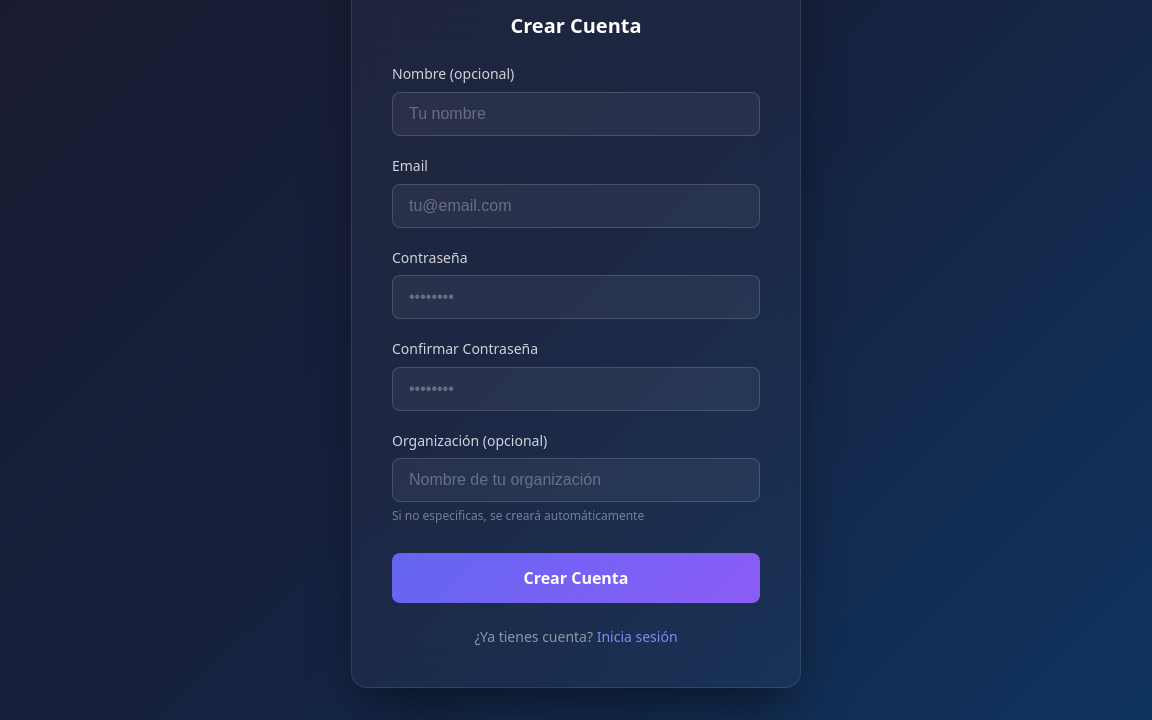
Test: RegisterPage › validates email and password are required
The width and height of the screenshot is (1152, 720).
(page scrolled)
# Try to submit empty form
Click the button "Crear Cuenta" at (576, 578), box [392, 553, 760, 603]
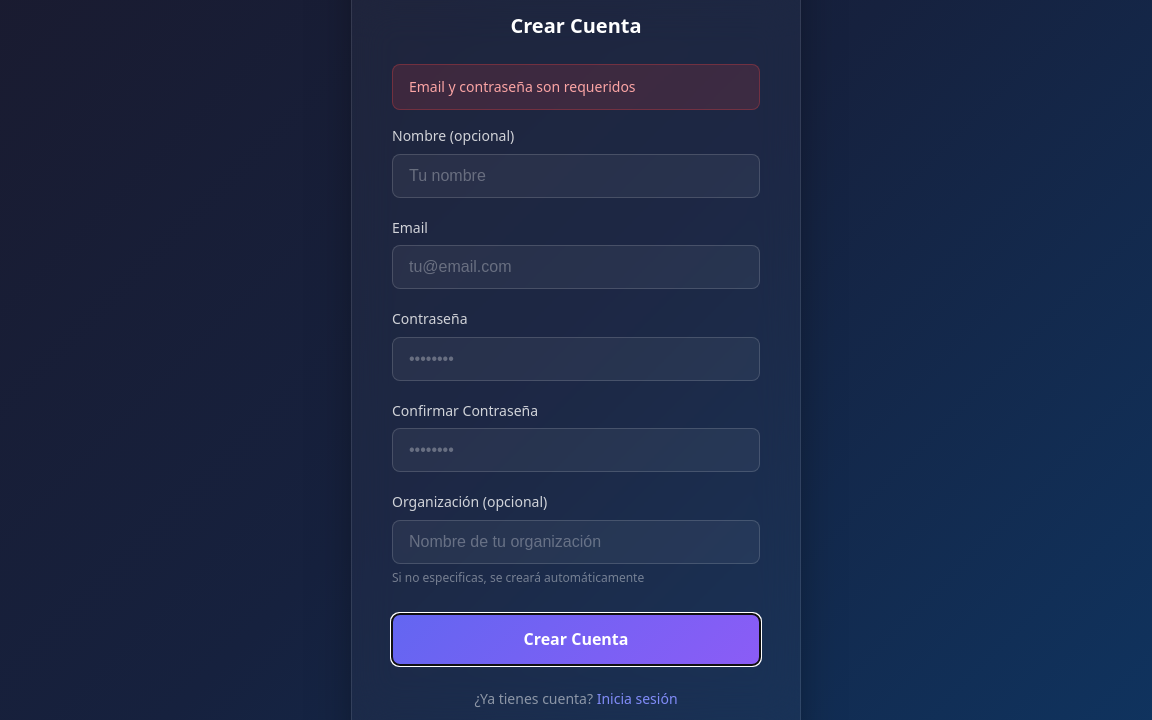
Expected: the text "Email y contraseña son requeridos" is shown, [392, 64, 760, 110]
